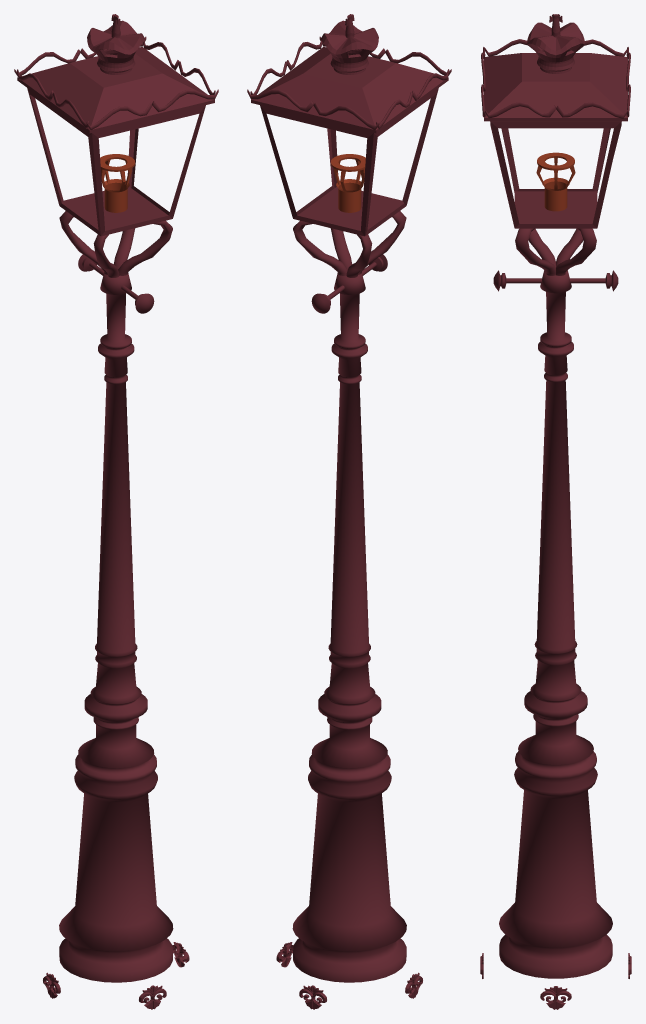
File: LampPostBase.glb
The picture shows the model from 3 angles, left to right: view 1: azimuth 30°, elevation 25°; view 2: azimuth 150°, elevation 25°; view 3: azimuth 270°, elevation 25°; orthographic projection.
Parts seen in each view (by area): view 1: Cylinder, Cube, Cylinder.001, Cylinder.004, Cylinder.002, Cylinder.006, Cylinder.005, Cylinder.003; view 2: Cylinder, Cube, Cylinder.001, Cylinder.004, Cylinder.002, Cylinder.006, Cylinder.005, Cylinder.003; view 3: Cylinder, Cube, Cylinder.004, Cylinder.001, Cylinder.002, Cylinder.005, Cylinder.003, Cylinder.006, low poly.001.
Part boxes in pixels (x1,y1,x2,y2): Cylinder: (59,273,173,982); Cube: (17,47,214,236); Cylinder.001: (59,211,172,277); Cylinder.004: (87,14,144,74); Cylinder.002: (100,154,135,212); Cylinder.006: (14,36,218,129); Cylinder.005: (17,41,215,128); Cylinder.003: (78,254,154,313); Cylinder: (292,273,406,982); Cube: (251,47,448,236); Cylinder.001: (293,211,406,277); Cylinder.004: (321,14,378,74); Cylinder.002: (330,154,365,212); Cylinder.006: (247,36,451,129); Cylinder.005: (250,40,449,129); Cylinder.003: (311,254,387,313); Cylinder: (499,270,612,978); Cube: (484,53,627,228); Cylinder.004: (527,14,584,73); Cylinder.001: (515,228,596,275); Cylinder.002: (536,152,575,211); Cylinder.005: (485,39,627,118); Cylinder.003: (493,270,618,291); Cylinder.006: (481,47,630,117); low poly.001: (540,986,571,1009).
Bounding box in the file's own units: 0.5778 × 4.04 × 0.5743.
